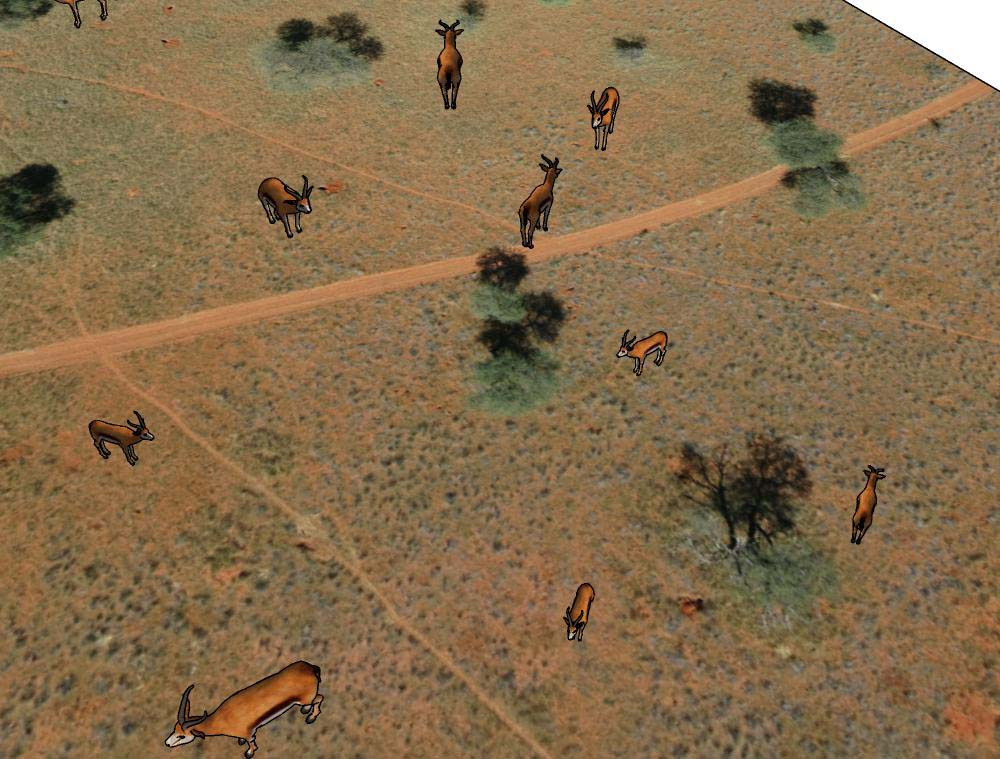springbok: (166, 657, 327, 759), (518, 156, 565, 247), (256, 173, 313, 239), (86, 410, 153, 466), (613, 326, 670, 379), (433, 13, 464, 110), (852, 462, 886, 545), (587, 79, 621, 152), (565, 578, 595, 642)
